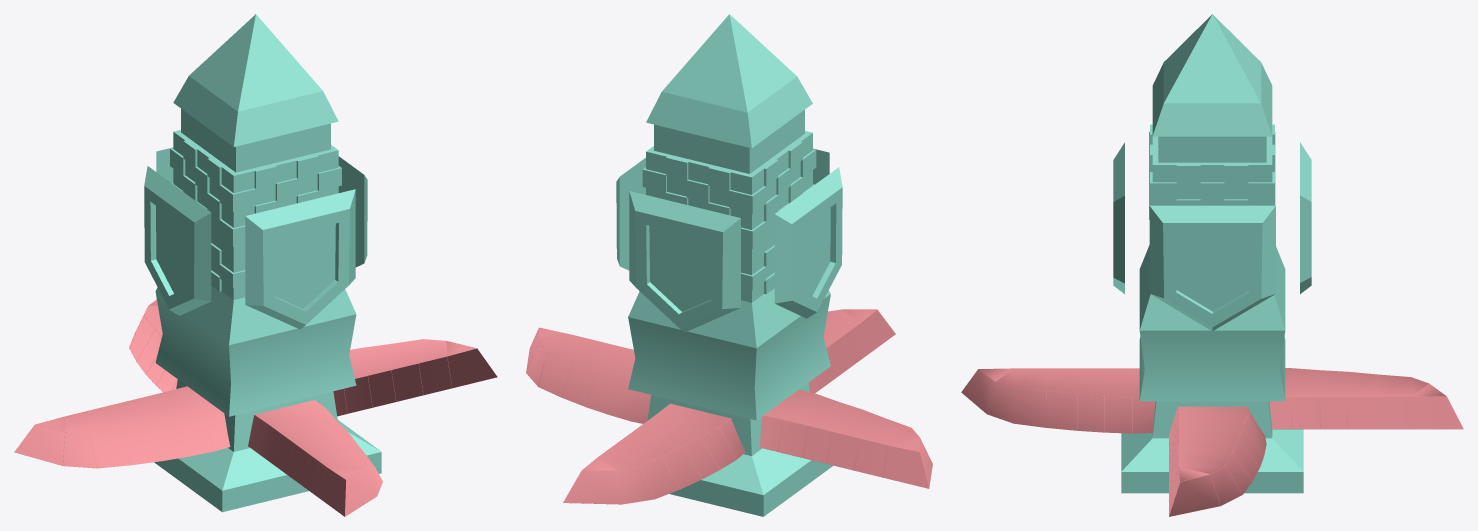
The model's file is Def_Blade.fbx.
3 views of the same model, side by side, from view 1: azimuth 30°, elevation 25°; view 2: azimuth 150°, elevation 25°; view 3: azimuth 270°, elevation 25° (orthographic).
Parts seen in each view (by area): view 1: Box001, Box002; view 2: Box001, Box002; view 3: Box001, Box002.
Boxes of the visible parts, x1,y1,x2,y2 form: Box001: [144, 14, 381, 512]; Box002: [14, 299, 497, 516]; Box001: [616, 14, 842, 516]; Box002: [526, 309, 932, 504]; Box001: [1113, 14, 1311, 493]; Box002: [961, 368, 1463, 516].
Size of the model in its own units: 244 by 244 by 236.
